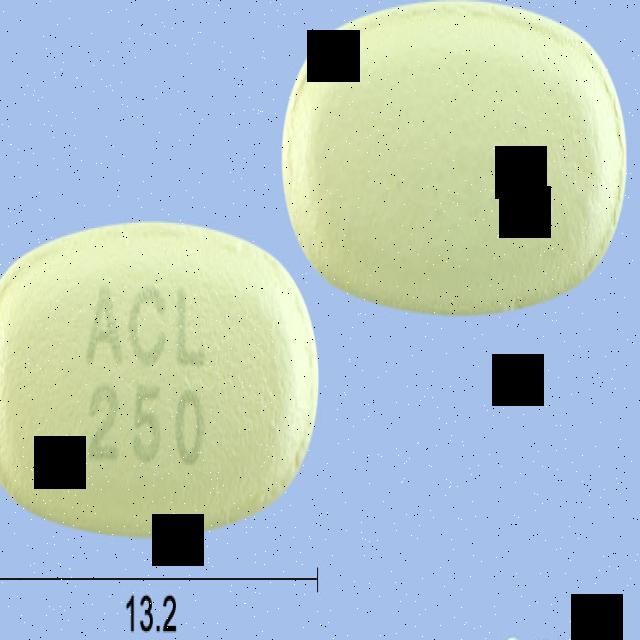Clorid: (0, 223, 321, 537)
